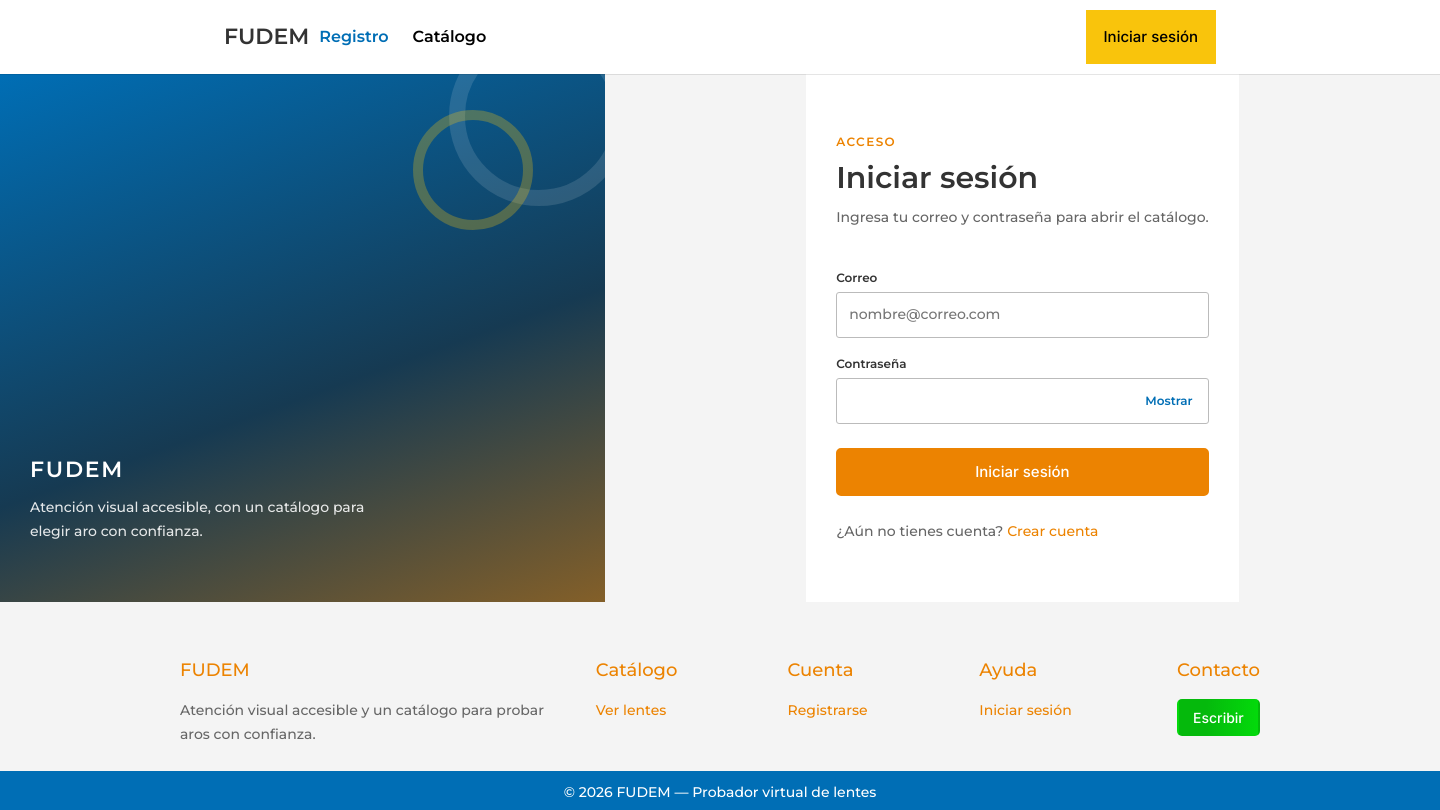
flujo de acceso › entra al catálogo al iniciar sesión con credenciales válidas
Expected: the heading "Iniciar sesión" is shown, top-left (836, 159), bottom-right (1038, 196)
Type "ana@test.com" into the field labelled "Correo". click: [1022, 315]
box: top-left (836, 292), bottom-right (1209, 338)
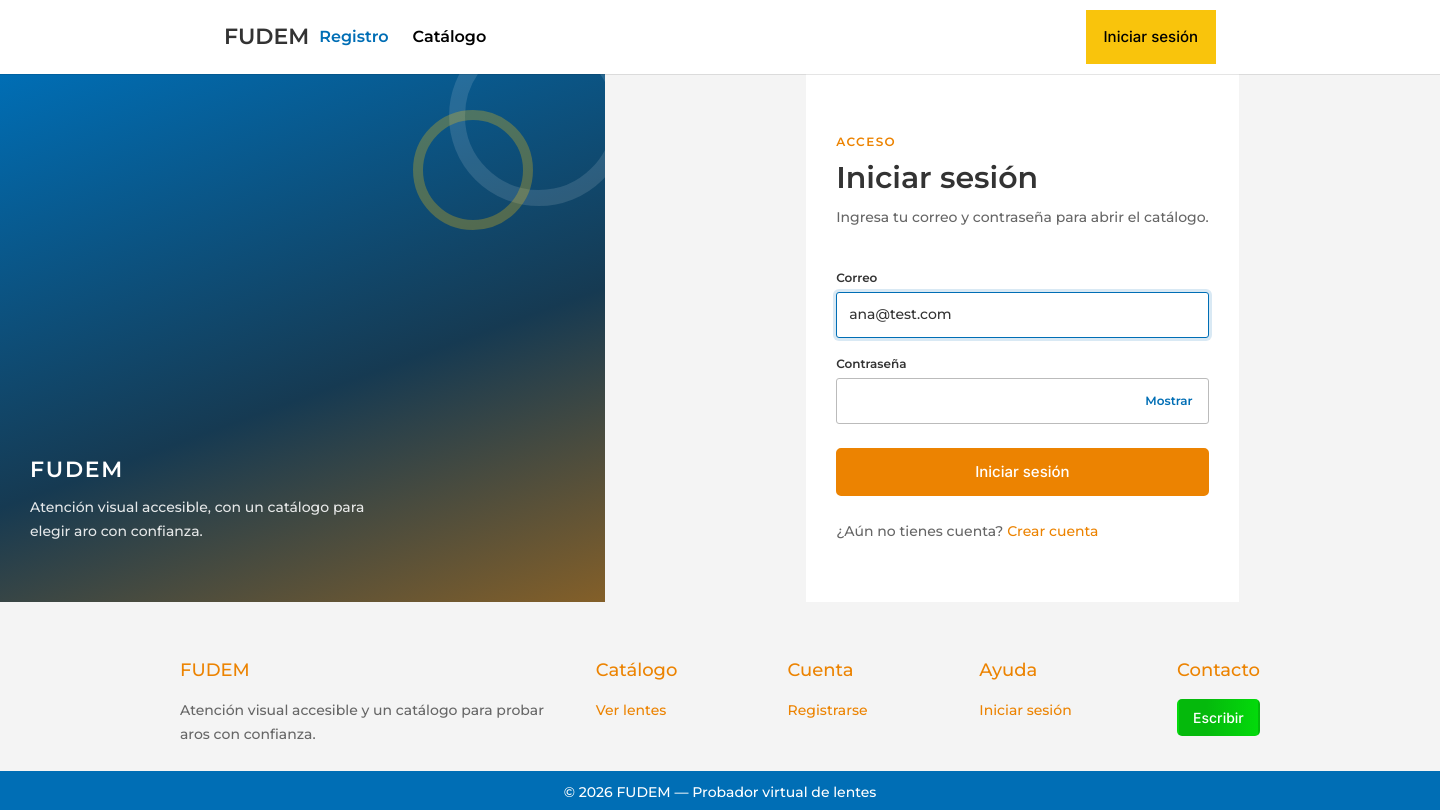
Type "12345678" into the password field labelled "Contraseña". click: [1022, 401]
box: top-left (836, 378), bottom-right (1209, 424)
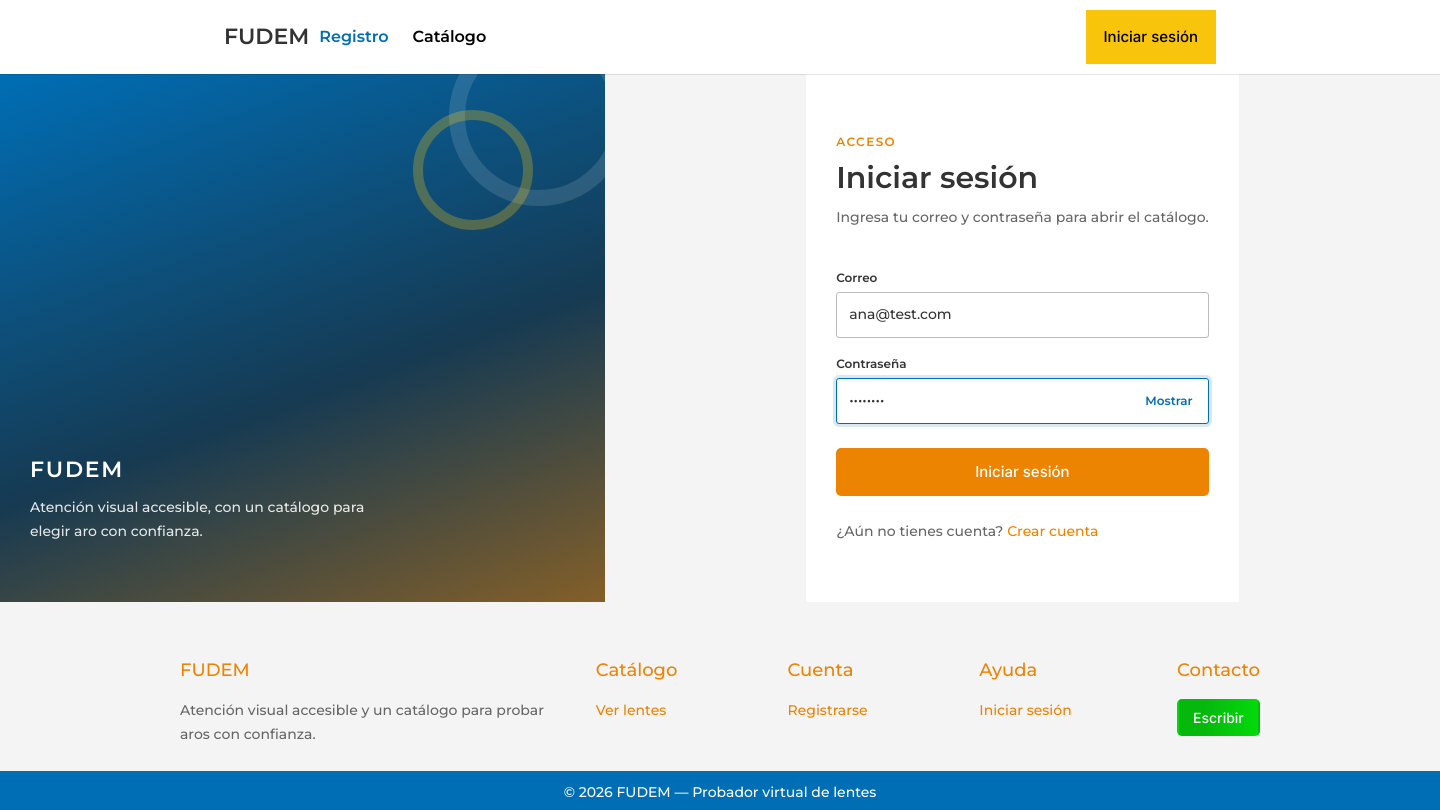
Click the button "Iniciar sesión". click: [1022, 472]
box: top-left (836, 448), bottom-right (1209, 496)
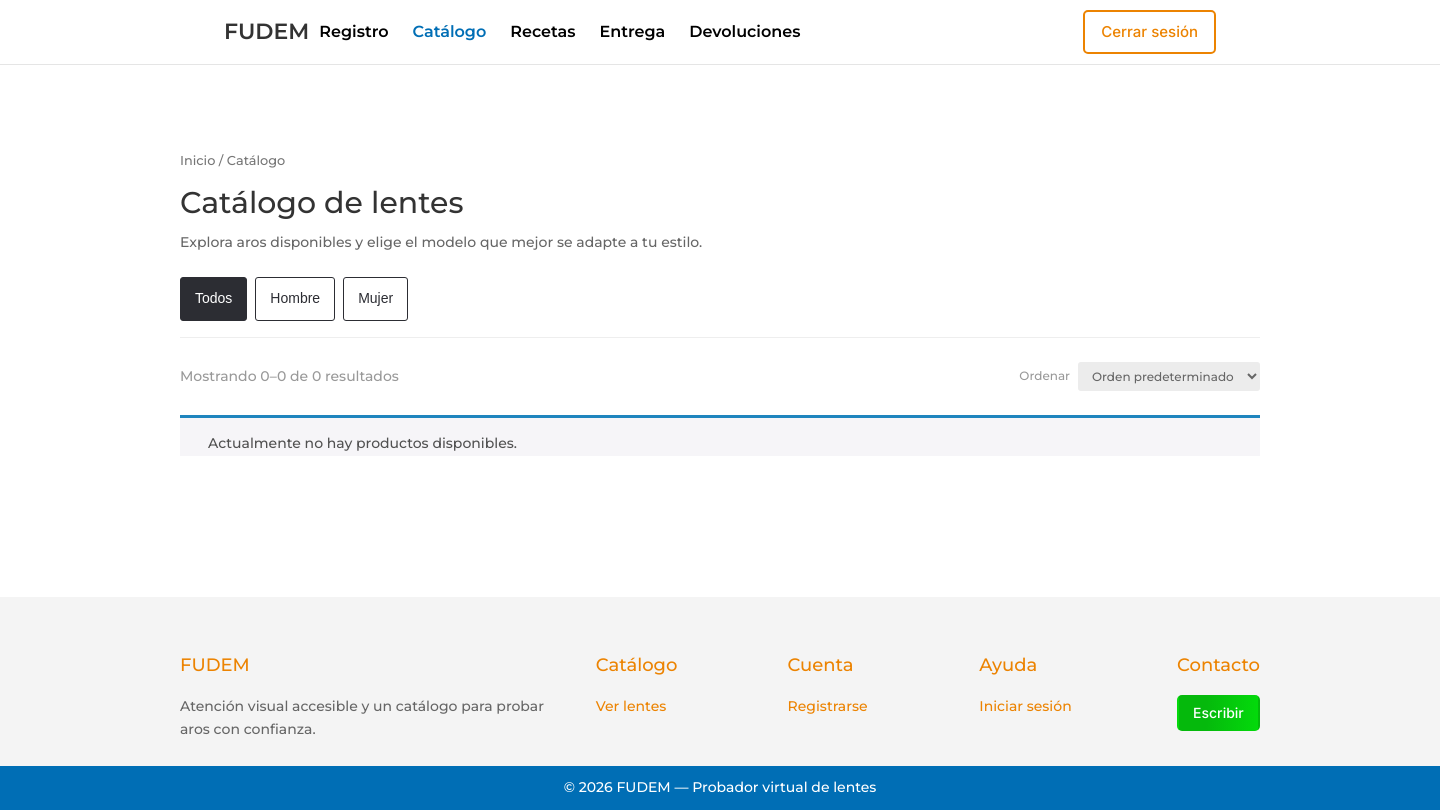
Result: the heading "Catálogo de lentes" is shown at top-left (180, 184), bottom-right (464, 221)
